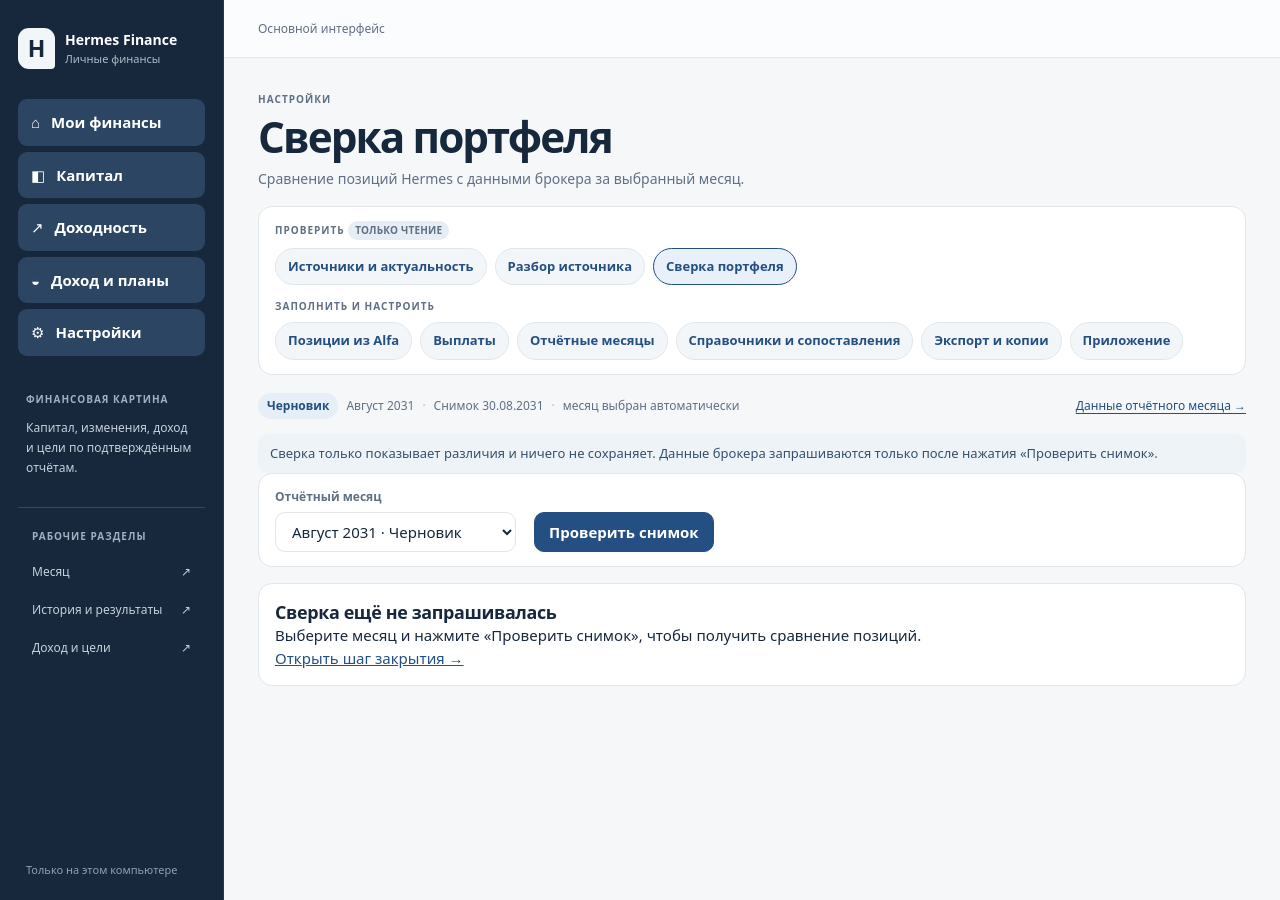
Test case: UI v2 Data reconciliation › runs preview only after owner click and keeps read-only semantics
Expected: the element with test id "reconciliation-idle" is shown, [258,583,1246,686]
Click the button "Проверить снимок" at (624, 532), box [534,512,714,552]
(page scrolled)
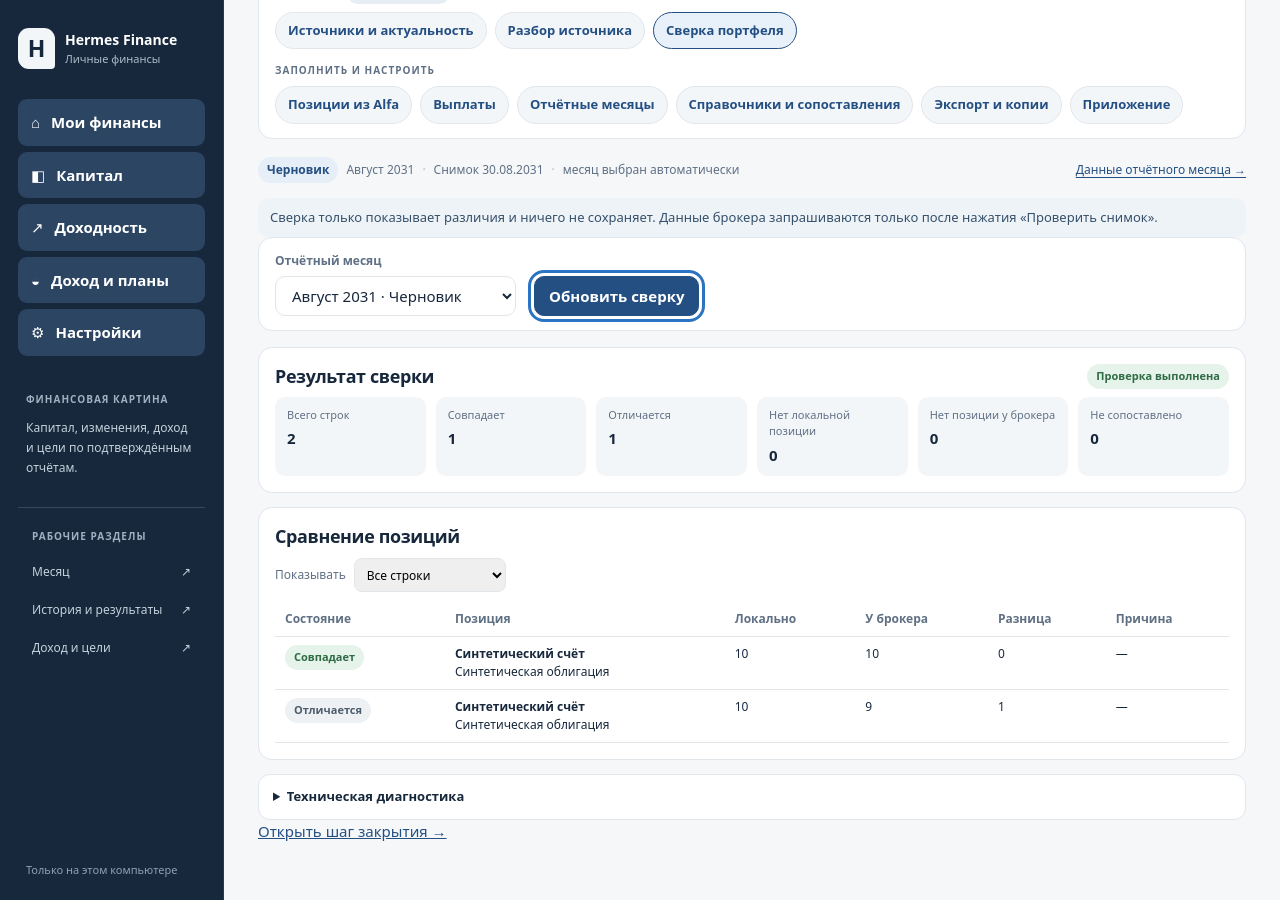
Result: the element with test id "reconciliation-result" is shown at [258,347,1246,493]
Result: the element with test id "reconciliation-rows" shows "Сравнение позиций" at [275,524,460,548]
Result: the element with test id "reconciliation-rows" shows "Совпадает" at [294,649,355,664]
